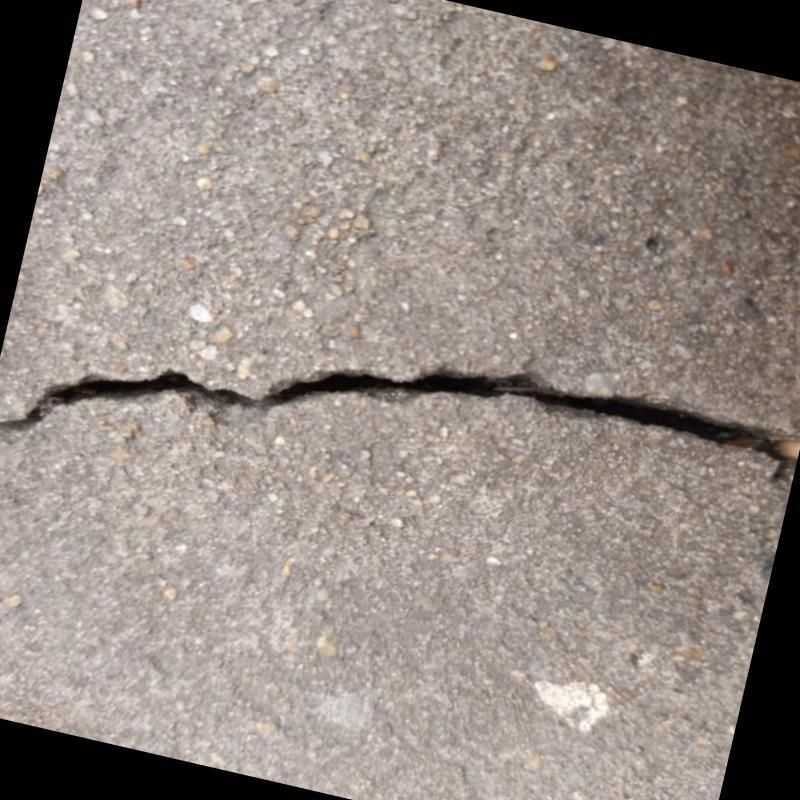pothole: (0, 373, 800, 480)
